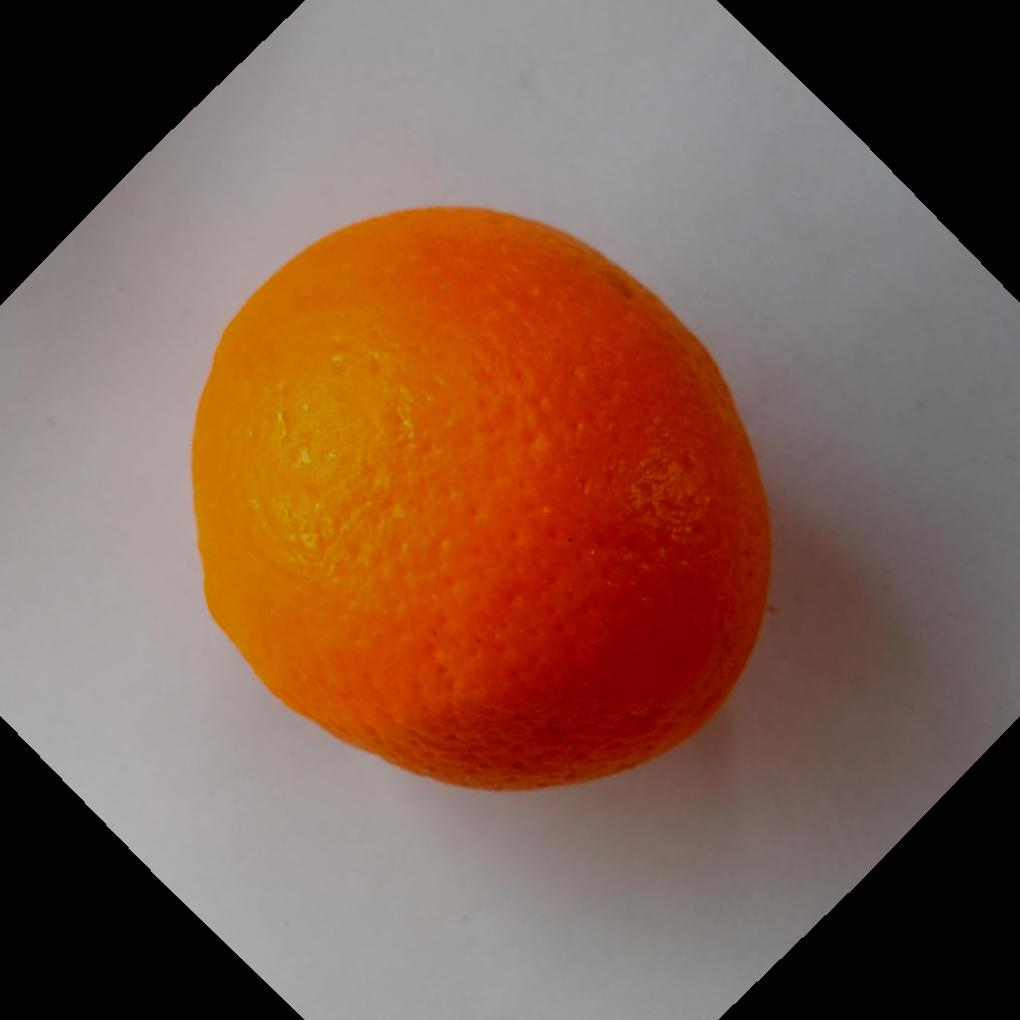FreshGuava: (186, 200, 772, 793)
